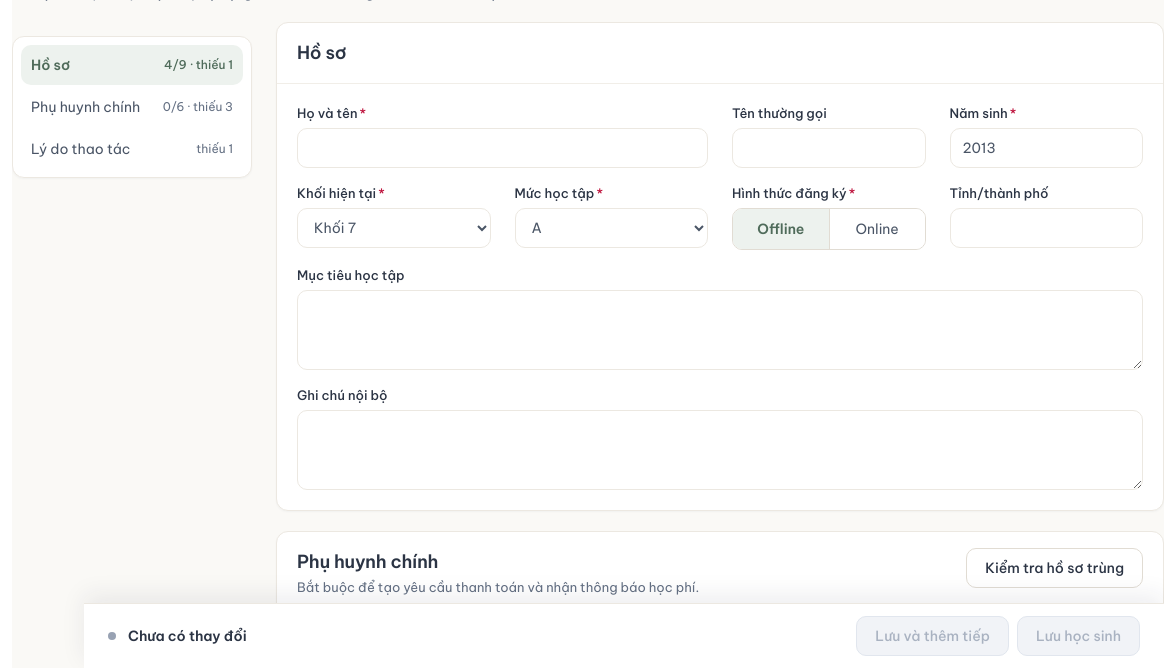
Test: StudentProfileForm (design 17a) › focuses the first invalid field in page order and names the errors in the bar without disabling save
Replace the text in the number field labelled "Năm sinh" with "1980" at coordinates (1046, 148), box [950,128,1143,168]
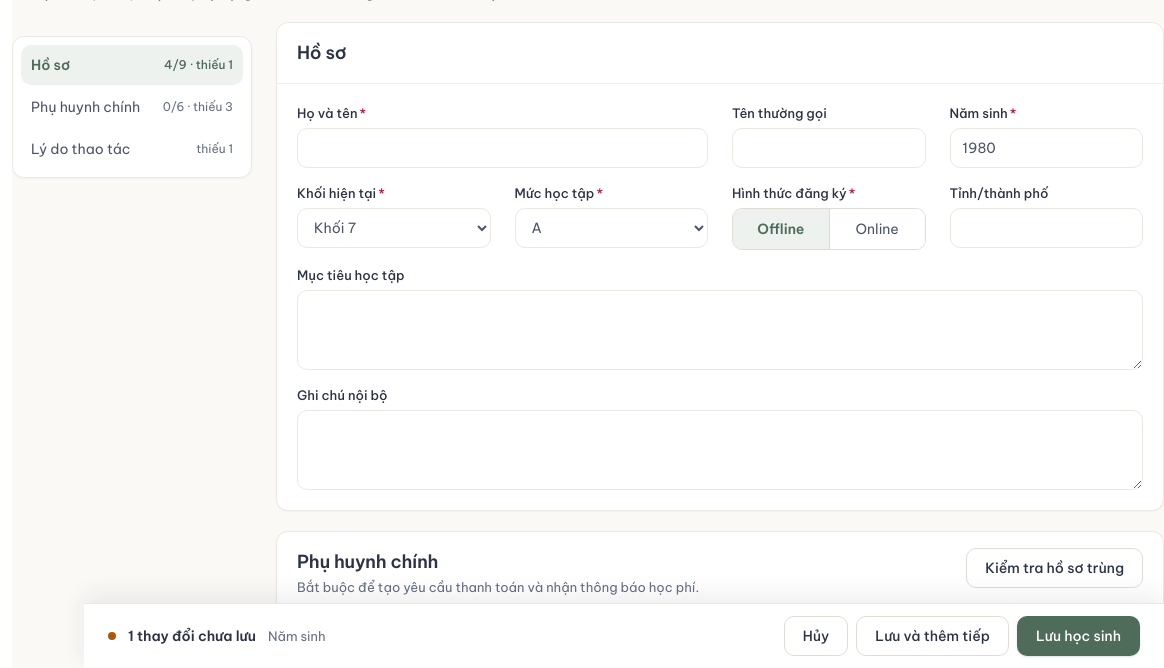
Click the button "Lưu học sinh" at coordinates (1078, 636), box [1017,616,1140,656]
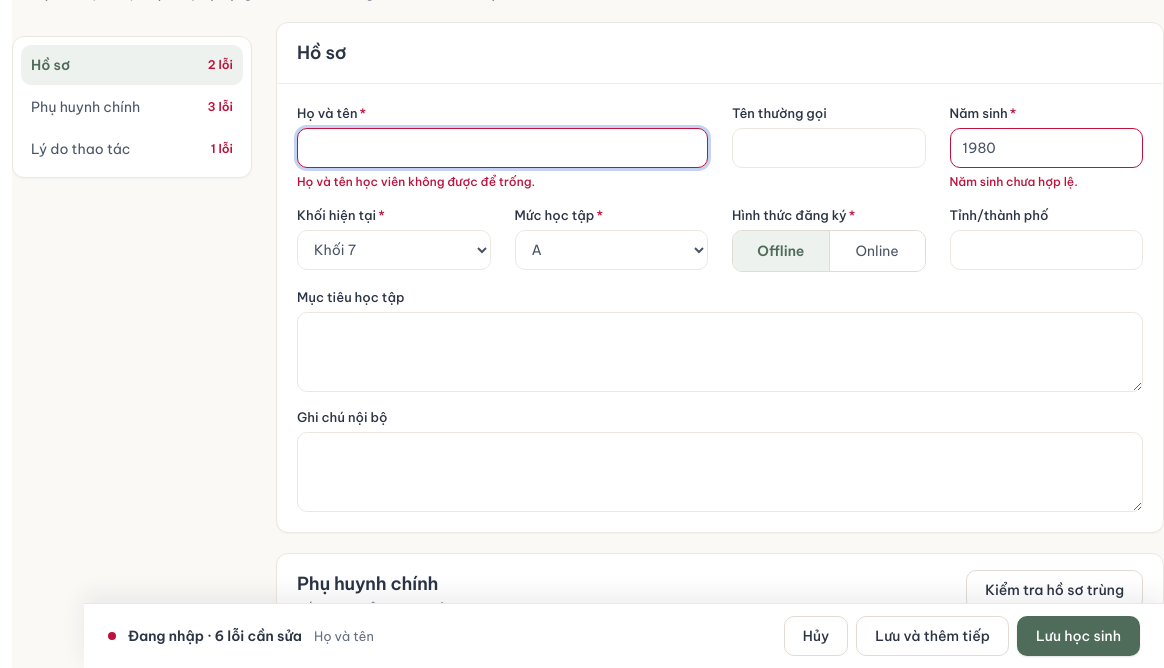
Check: the button "Lưu học sinh" is enabled, box [1017,616,1140,656]
Check: the element named "Thanh lưu thay đổi" shows "Đang nhập · 6 lỗi cần sửa", box [128,627,302,645]
Check: the element named "Thanh lưu thay đổi" shows "Họ và tên", box [314,628,374,644]
Type "Nguyễn Gia Hân" into the field labelled "Họ và tên" at coordinates (502, 148), box [297,128,708,168]
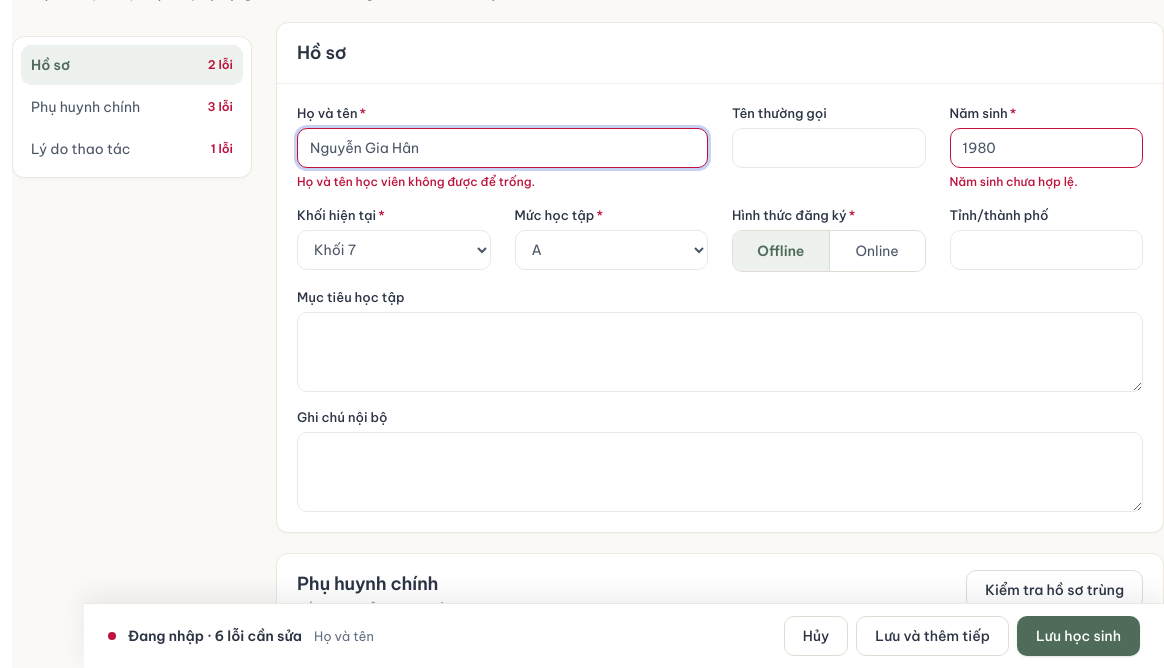
Replace the text in the number field labelled "Năm sinh" with "2013" at coordinates (1046, 148), box [950,128,1143,168]
(page scrolled)
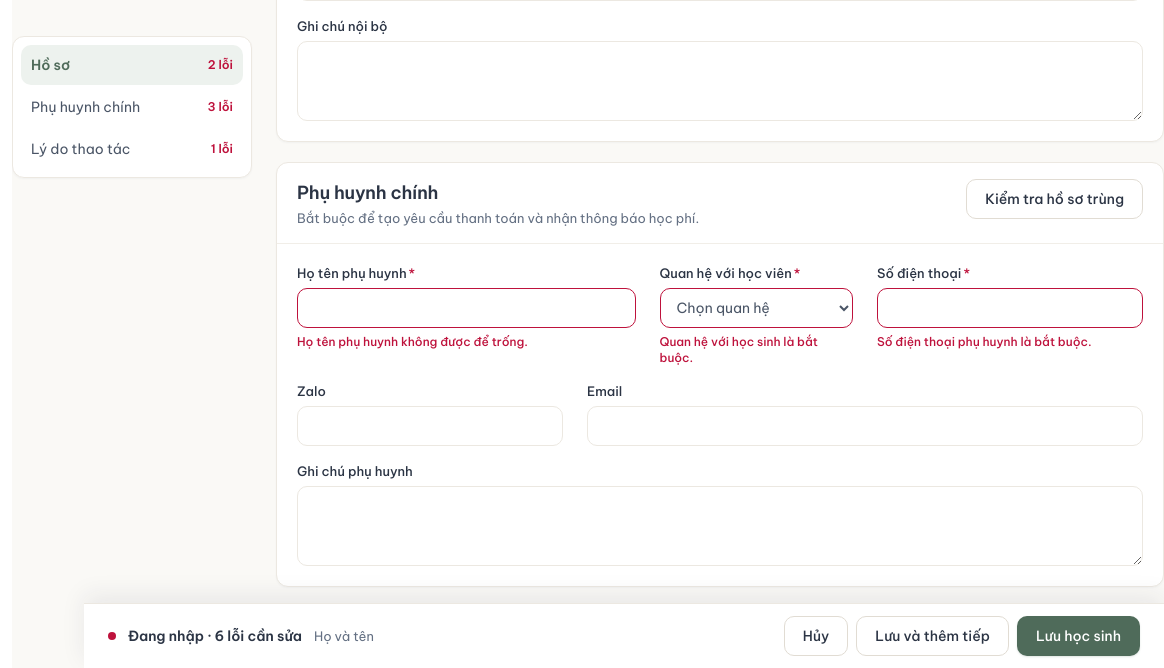
Type "Đỗ Thị Lan" into the field labelled "Họ tên phụ huynh" at coordinates (466, 308), box [297,288,636,328]
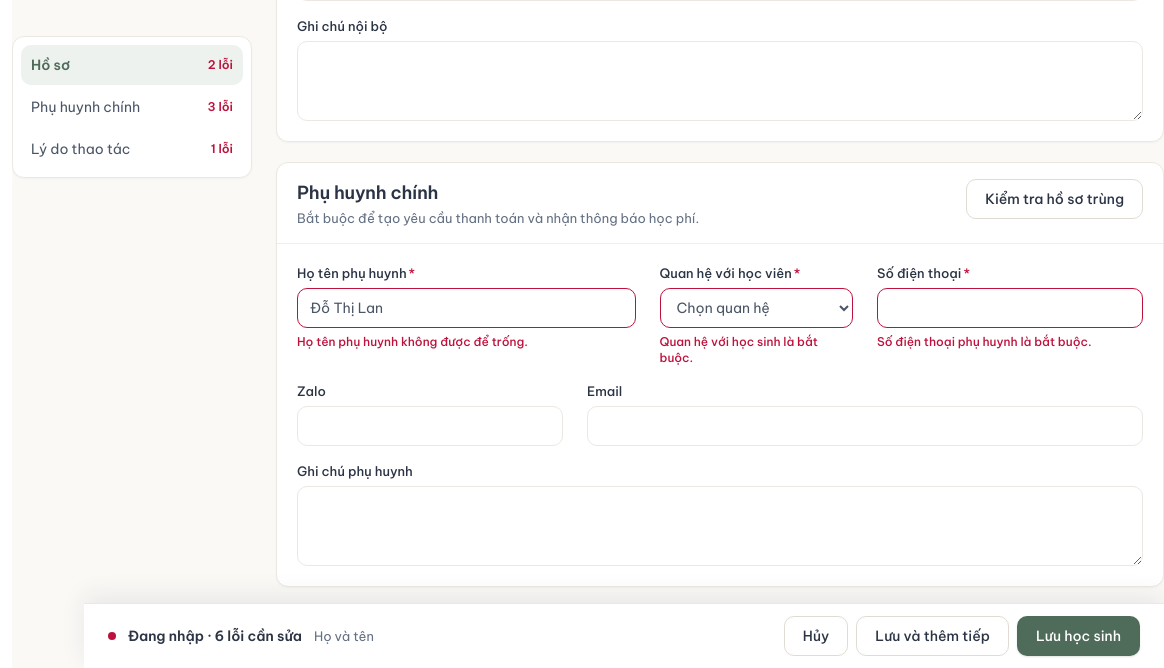
Click the button "Lưu học sinh" at coordinates (1078, 636), box [1017,616,1140,656]
(page scrolled)
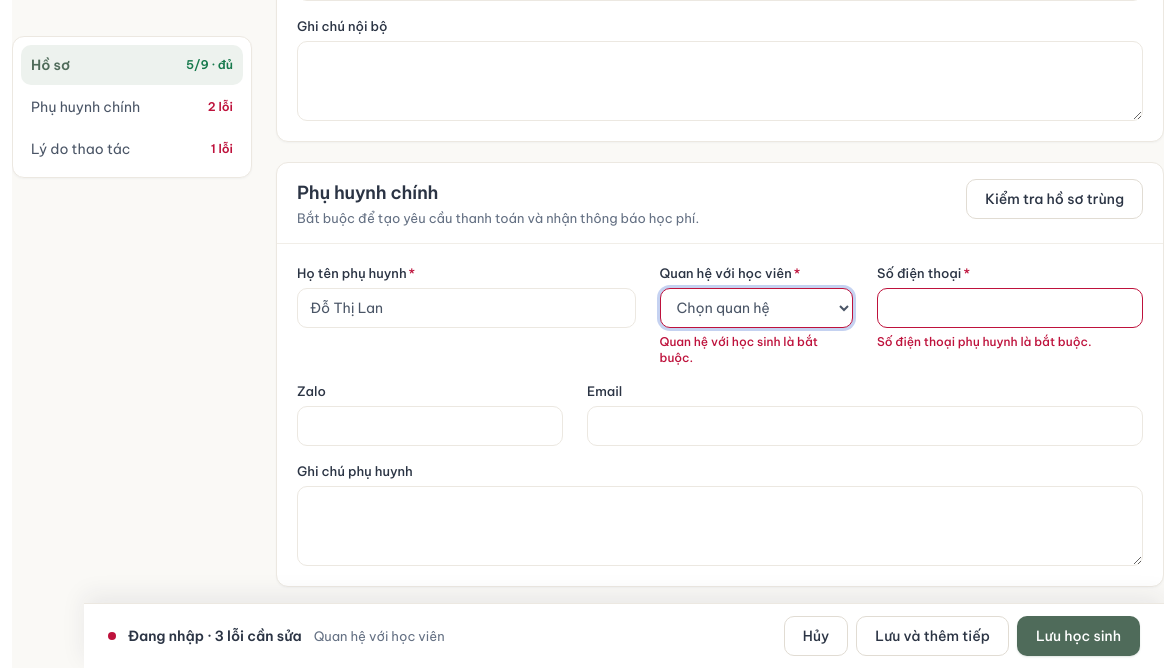
Check: the element named "Thanh lưu thay đổi" shows "Đang nhập · 3 lỗi cần sửa", box [128,627,302,645]
